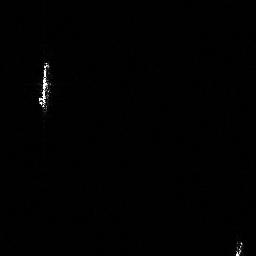ship: (34, 57, 57, 115)
